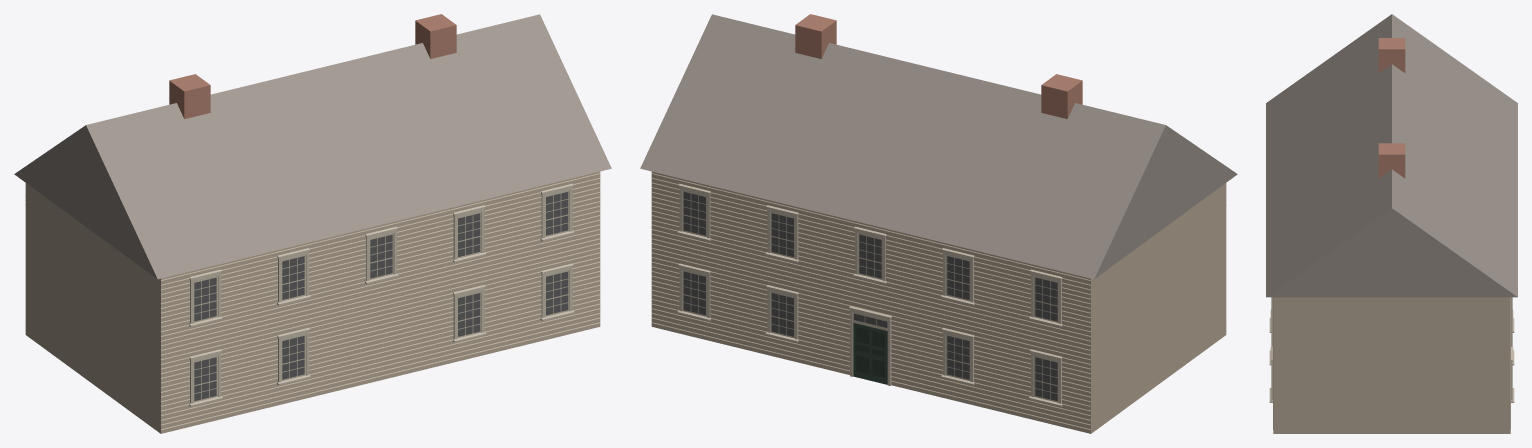
File: steamboat_hotel__frame_1835.glb
The picture shows the model from 3 angles, left to right: view 1: azimuth 30°, elevation 25°; view 2: azimuth 150°, elevation 25°; view 3: azimuth 270°, elevation 25°; orthographic projection. The views are drawn at different scales.
Visible parts, largest first — view 1: steamboat_hotel__frame_1835; view 2: steamboat_hotel__frame_1835; view 3: steamboat_hotel__frame_1835.
Boxes of the visible parts, x1,y1,x2,y2 form: steamboat_hotel__frame_1835: (14,14,611,433); steamboat_hotel__frame_1835: (640,14,1237,433); steamboat_hotel__frame_1835: (1266,14,1517,433).
Bounding box in the file's own units: 15.5 × 9.07 × 8.5.
